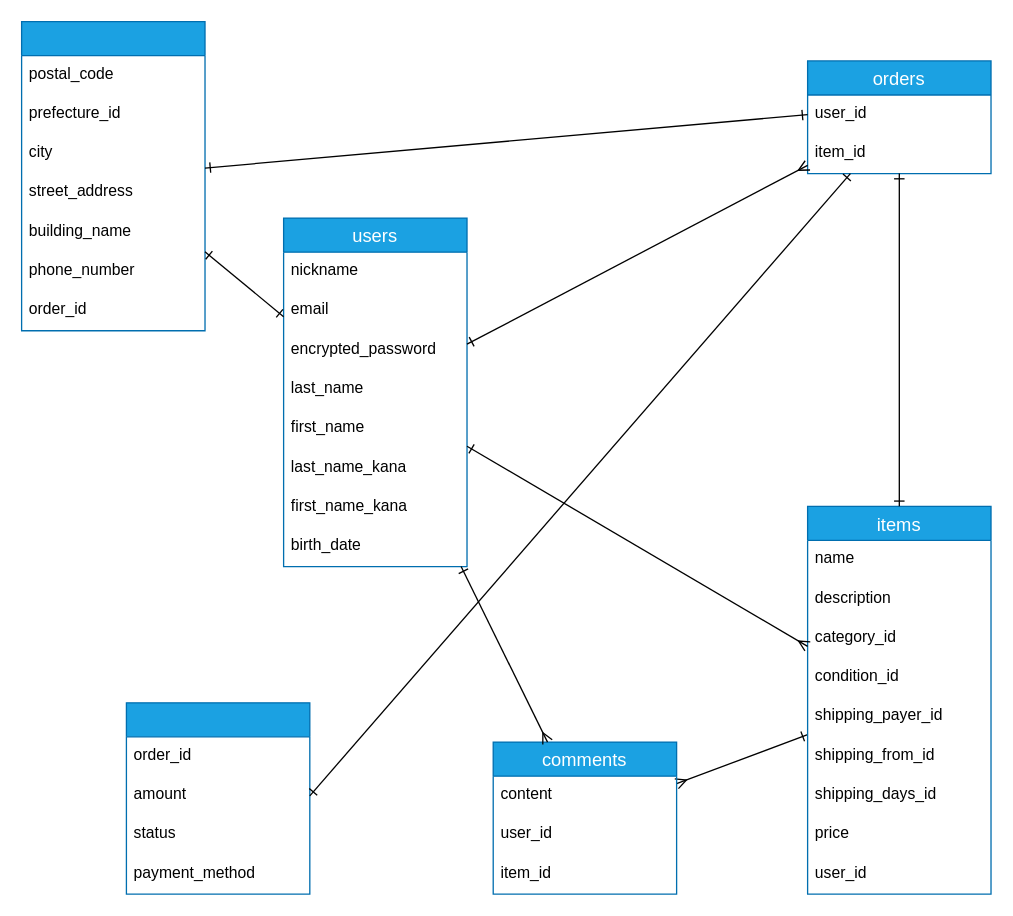
Image size: 1013x916. Some labels were removed from this diagram. The box of each missing label's shape, as (x1, y1, x2, y2) in pixels:
addresses: (20, 20, 205, 331)
payments: (125, 702, 310, 894)
